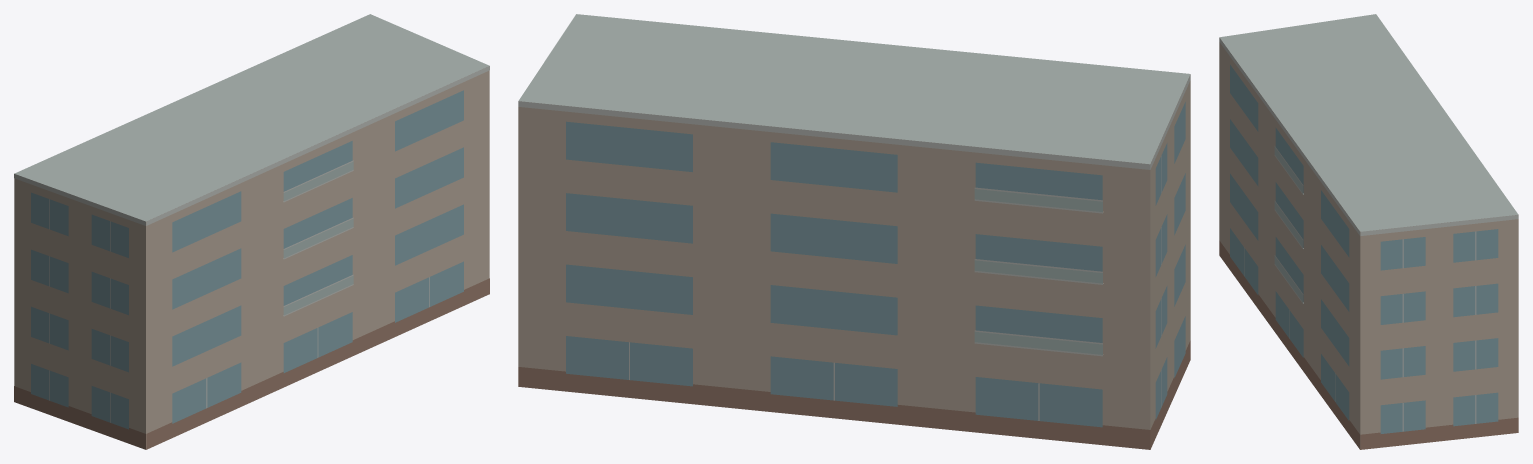
Rendered from survey-upis-33023830.glb.
The picture shows the model from 3 angles, left to right: view 1: azimuth 30°, elevation 25°; view 2: azimuth 150°, elevation 25°; view 3: azimuth 270°, elevation 25°; orthographic projection. The views are drawn at different scales.
Visible parts, largest first — view 1: survey-upis-33023830.tmp; view 2: survey-upis-33023830.tmp; view 3: survey-upis-33023830.tmp.
Part boxes in pixels (x1=…): survey-upis-33023830.tmp: x1=14, y1=14, x2=489, y2=449; survey-upis-33023830.tmp: x1=518, y1=14, x2=1190, y2=449; survey-upis-33023830.tmp: x1=1219, y1=14, x2=1518, y2=449.
Size of the model in its own units: 26.14 by 12.2 by 15.18.
